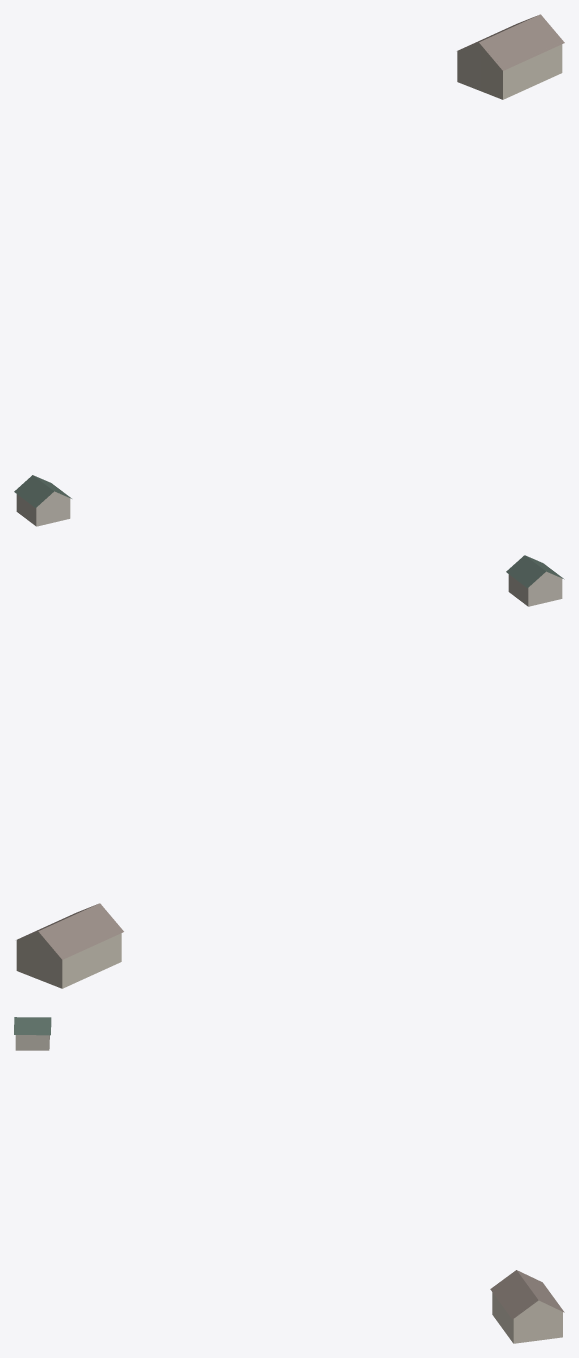
3 views of the same model, one above another, from view 1: azimuth 30°, elevation 25°; view 2: azimuth 210°, elevation 25°; view 3: azimuth 270°, elevation 25° (orthographic). The views are drawn at different scales.
Parts seen in each view (by area): view 1: tuile; view 2: tuile; view 3: tuile.
Part boxes in pixels (x1=…): tuile: x1=14, y1=14, x2=564, y2=526; tuile: x1=16, y1=555, x2=564, y2=988; tuile: x1=14, y1=1017, x2=564, y2=1343.
Size of the model in its own units: 168 by 15.93 by 116.
